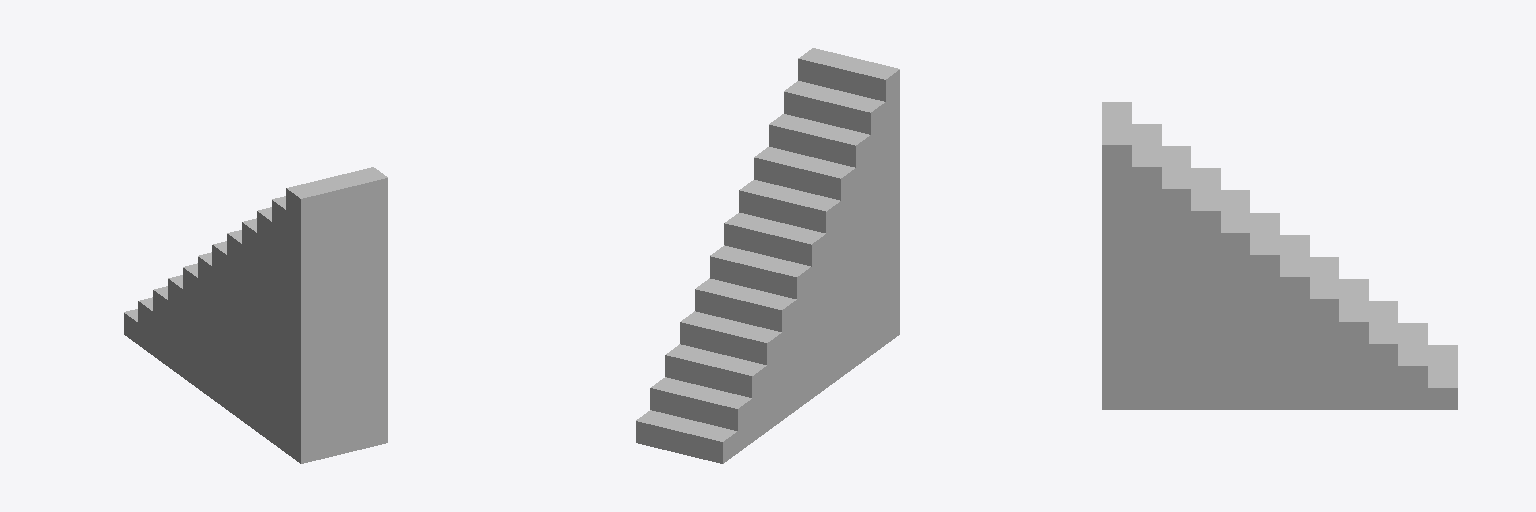
The model's file is stairsStone.obj.
3 views of the same model, side by side, from view 1: azimuth 30°, elevation 25°; view 2: azimuth 150°, elevation 25°; view 3: azimuth 270°, elevation 25° (orthographic).
Parts seen in each view (by area): view 1: stairsStone; view 2: stairsStone; view 3: stairsStone.
Part boxes in pixels (bbox=[...]): stairsStone: bbox=[124, 167, 387, 463]; stairsStone: bbox=[636, 48, 899, 463]; stairsStone: bbox=[1102, 102, 1457, 409].
Bounding box in the file's own units: 2.33 × 6.75 × 8.19.